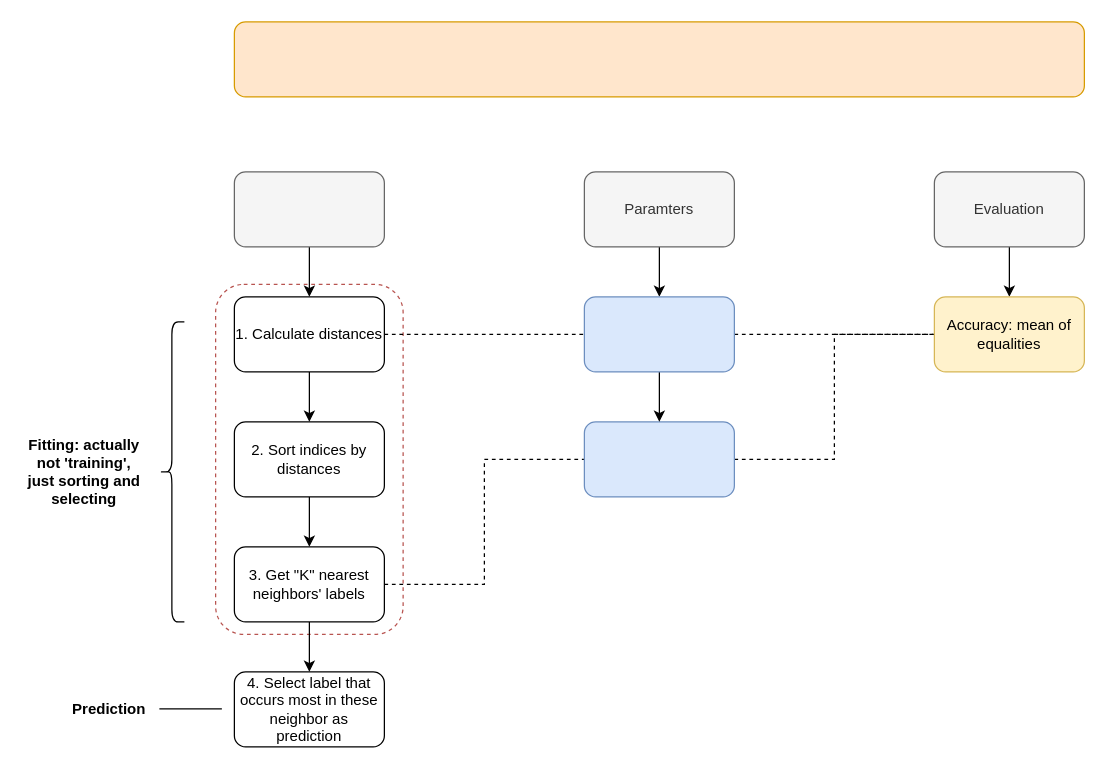
Some shapes in this 1106 by 769 pixel diagram are drawn without their labels. The shapes that lost their labels are listed below. From the top down, each one's box as (x1, y1, x2, y2) in pixels, then its label:
(233, 21, 1084, 97): KNN, K Nearest Neighbors
(233, 171, 384, 247): Algorithm
(583, 296, 734, 372): 1. Distance, - Euclidean distance - Manhattan distance
(583, 421, 734, 497): 2. K, number of desired neighbors
